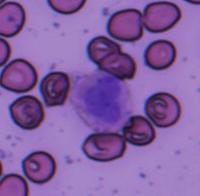N: (70, 70, 133, 133)
